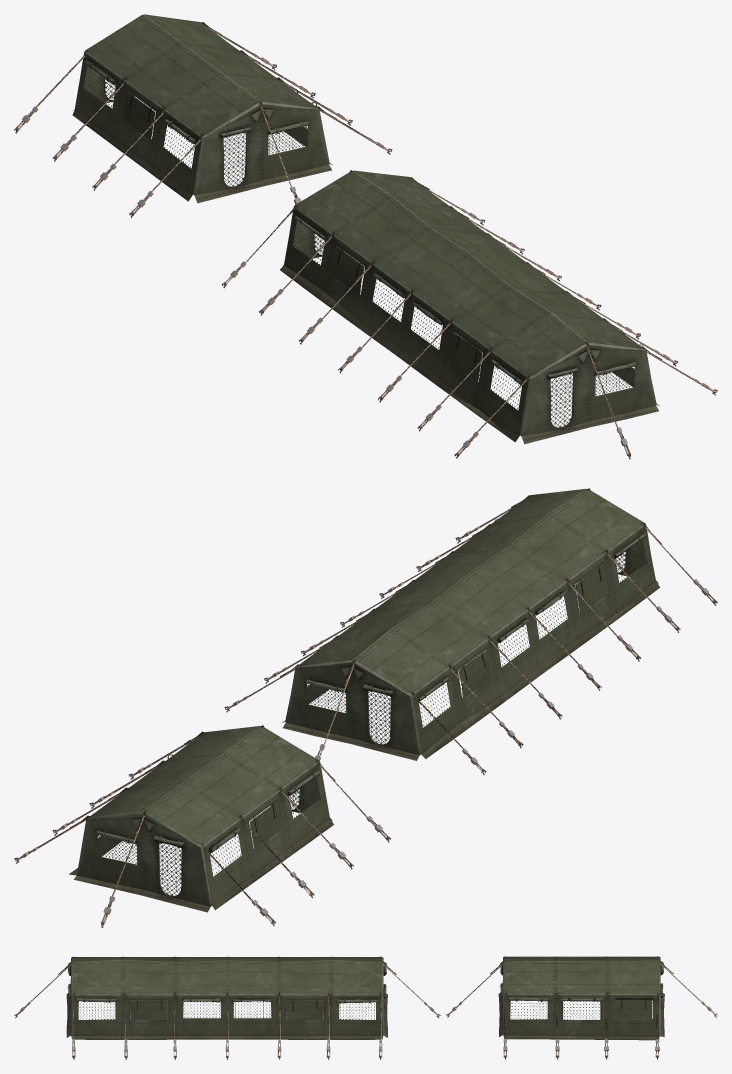
Rendered from tent house_C.fbx.
3 views of the same model, one above another, from view 1: azimuth 30°, elevation 25°; view 2: azimuth 150°, elevation 25°; view 3: azimuth 270°, elevation 25° (orthographic). The views are drawn at different scales.
Visible parts, largest first — view 1: ArmyTent_02_ArmyTent_0.001, ArmyTent_02_ArmyTent_0.002; view 2: ArmyTent_02_ArmyTent_0.001, ArmyTent_02_ArmyTent_0.002; view 3: ArmyTent_02_ArmyTent_0.001, ArmyTent_02_ArmyTent_0.002.
Part boxes in pixels (x1,y1,x2,y2): ArmyTent_02_ArmyTent_0.001: (221,170,717,459); ArmyTent_02_ArmyTent_0.002: (14,14,392,217); ArmyTent_02_ArmyTent_0.001: (101,488,717,925); ArmyTent_02_ArmyTent_0.002: (14,725,390,927); ArmyTent_02_ArmyTent_0.001: (14,956,717,1059); ArmyTent_02_ArmyTent_0.002: (446,956,716,1059).
Bounding box in the file's own units: 768 × 244 × 2671.
Materials: 1 (1 with a texture image).
